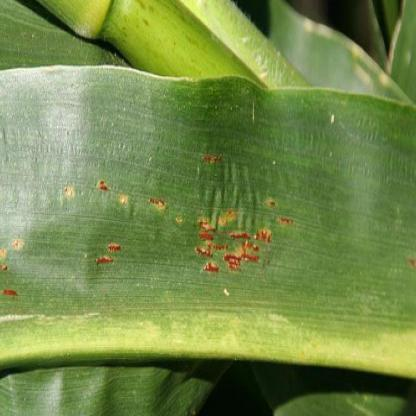Corn rust leaf: (1, 53, 415, 389)
